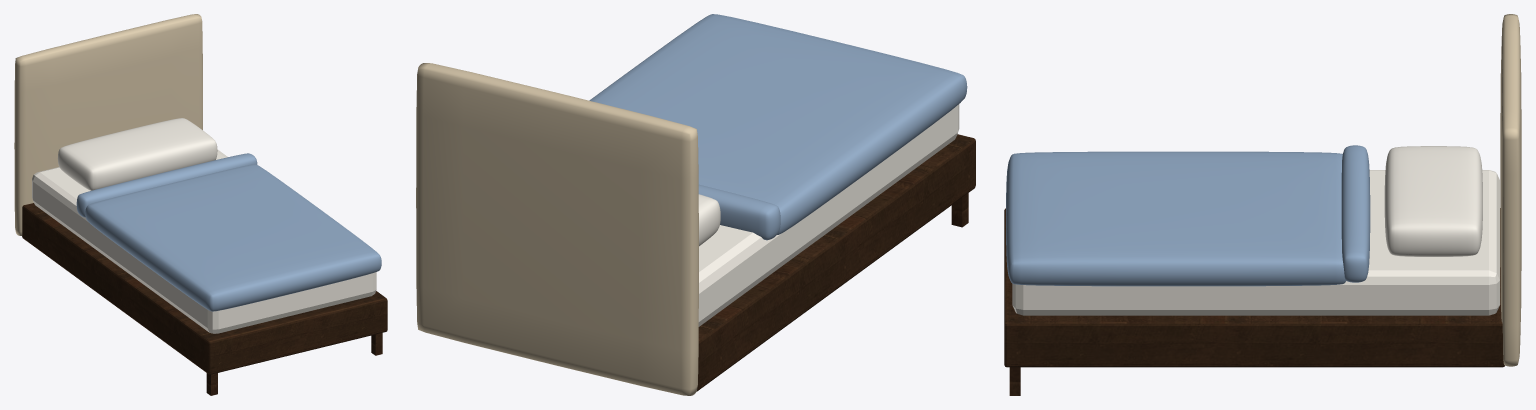
File: bed_s.glb
The picture shows the model from 3 angles, left to right: view 1: azimuth 30°, elevation 25°; view 2: azimuth 150°, elevation 25°; view 3: azimuth 270°, elevation 25°; orthographic projection. The views are drawn at different scales.
Visible parts, largest first — view 1: bed_s_duvet, bed_s_head, bed_s_frame, bed_s_mattress, bed_s_pillow0, bed_s_fold; view 2: bed_s_head, bed_s_duvet, bed_s_frame, bed_s_mattress, bed_s_fold, bed_s_pillow0, bed_s_leg8.64; view 3: bed_s_duvet, bed_s_frame, bed_s_mattress, bed_s_pillow0, bed_s_head, bed_s_fold.
Part boxes in pixels (x1,y1,x2,y2): bed_s_duvet: [85, 164, 381, 311]; bed_s_head: [14, 14, 202, 235]; bed_s_frame: [22, 203, 387, 374]; bed_s_mattress: [32, 149, 376, 333]; bed_s_pillow0: [57, 118, 217, 190]; bed_s_fold: [76, 153, 257, 217]; bed_s_head: [416, 63, 698, 395]; bed_s_duvet: [589, 14, 967, 234]; bed_s_frame: [696, 134, 975, 391]; bed_s_mattress: [698, 104, 959, 326]; bed_s_fold: [698, 184, 780, 240]; bed_s_pillow0: [698, 194, 720, 246]; bed_s_leg8.64: [951, 193, 968, 227]; bed_s_duvet: [1006, 151, 1345, 286]; bed_s_frame: [1004, 208, 1504, 367]; bed_s_mattress: [1012, 170, 1499, 315]; bed_s_pillow0: [1384, 146, 1482, 256]; bed_s_head: [1500, 14, 1521, 366]; bed_s_fold: [1341, 145, 1370, 282].
Size of the model in its own units: 1.04 by 1.08 by 1.88.
Materials: 4 (1 with a texture image).
